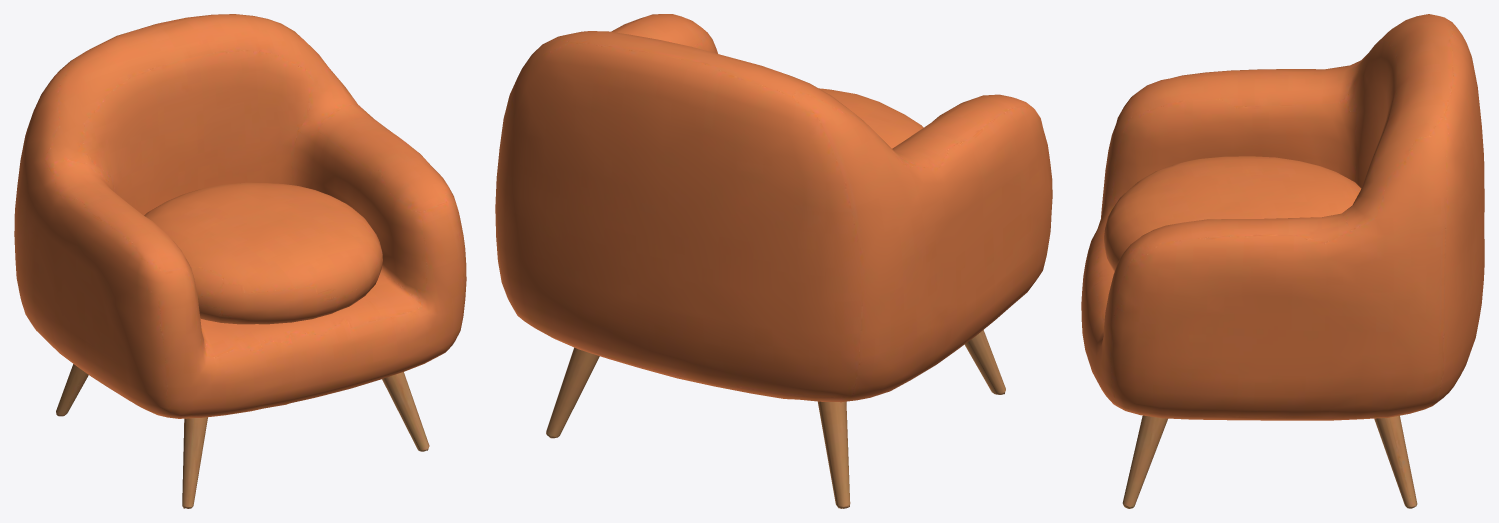
Rendered from retro-armchair.glb.
The picture shows the model from 3 angles, left to right: view 1: azimuth 30°, elevation 25°; view 2: azimuth 150°, elevation 25°; view 3: azimuth 270°, elevation 25°; orthographic projection. The views are drawn at different scales.
Visible parts, largest first — view 1: geometry_0; view 2: geometry_0; view 3: geometry_0.
Part boxes in pixels (left/top/right/bottom): geometry_0: left=14, top=14, right=466, bottom=508; geometry_0: left=495, top=14, right=1052, bottom=508; geometry_0: left=1081, top=14, right=1484, bottom=508.
Bounding box in the file's own units: 1 × 1 × 0.9388.
Materials: 1 (1 with a texture image).
